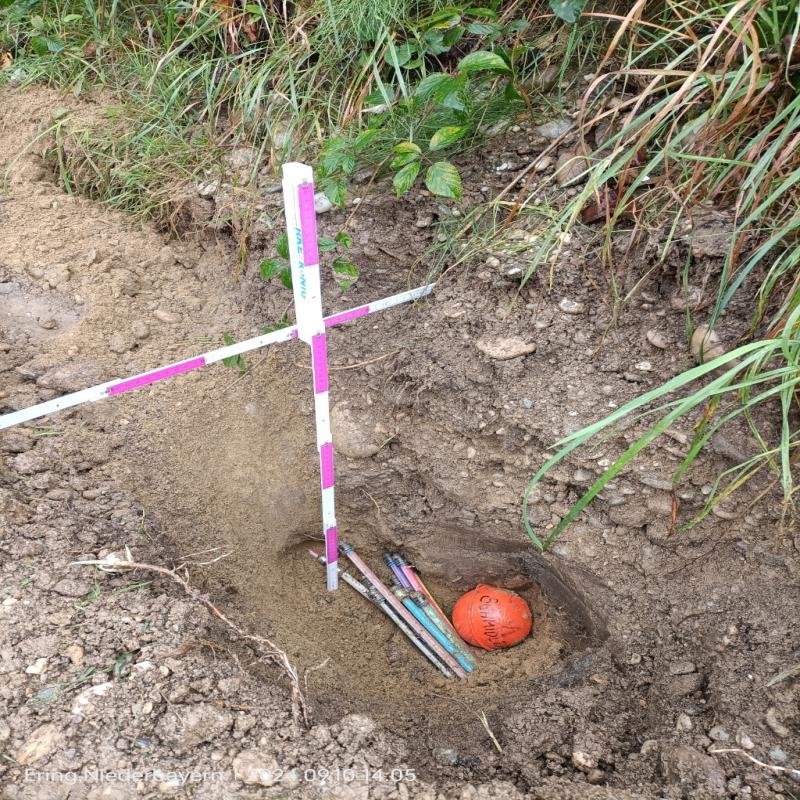Kugelmarker: (455, 583, 531, 650)
